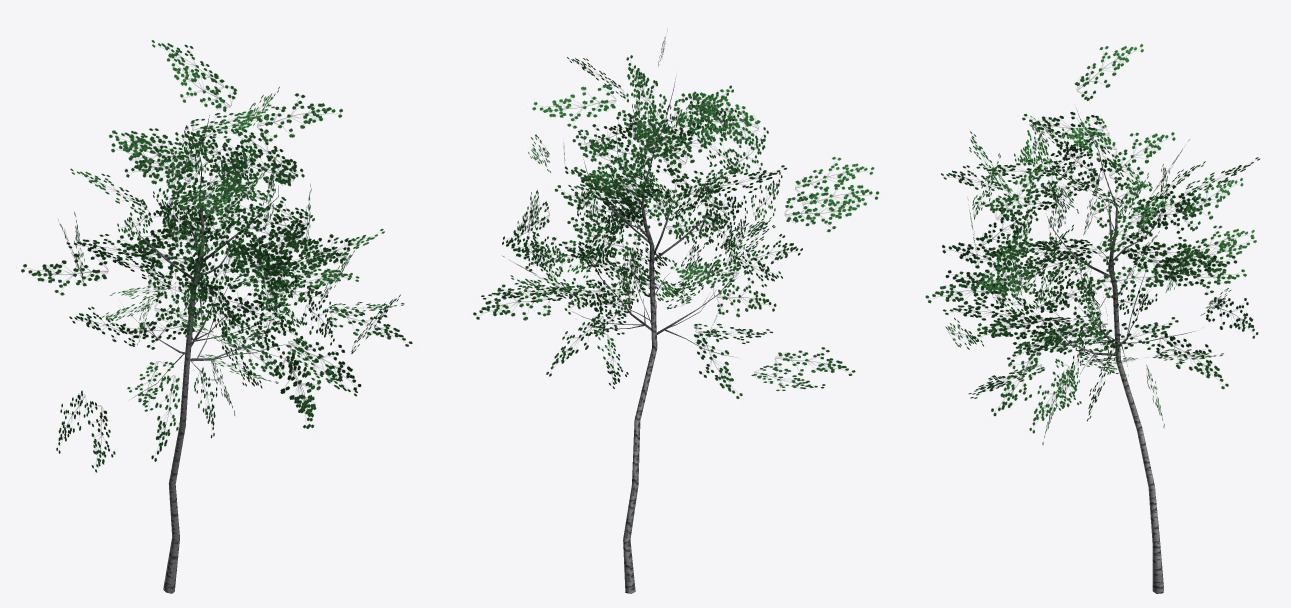
The model's file is Birke 3.glb.
3 renders of one model, left to right at view 1: azimuth 30°, elevation 25°; view 2: azimuth 150°, elevation 25°; view 3: azimuth 270°, elevation 25°, orthographic. The views are drawn at different scales.
Parts seen in each view (by area): view 1: Birke 3; view 2: Birke 3; view 3: Birke 3.
Boxes of the visible parts, bbox=[...] form: Birke 3: bbox=[21, 40, 412, 593]; Birke 3: bbox=[473, 29, 879, 593]; Birke 3: bbox=[925, 44, 1260, 593].
Size of the model in its own units: 0.5317 by 0.803 by 0.4646.
2 materials, 2 textured.
